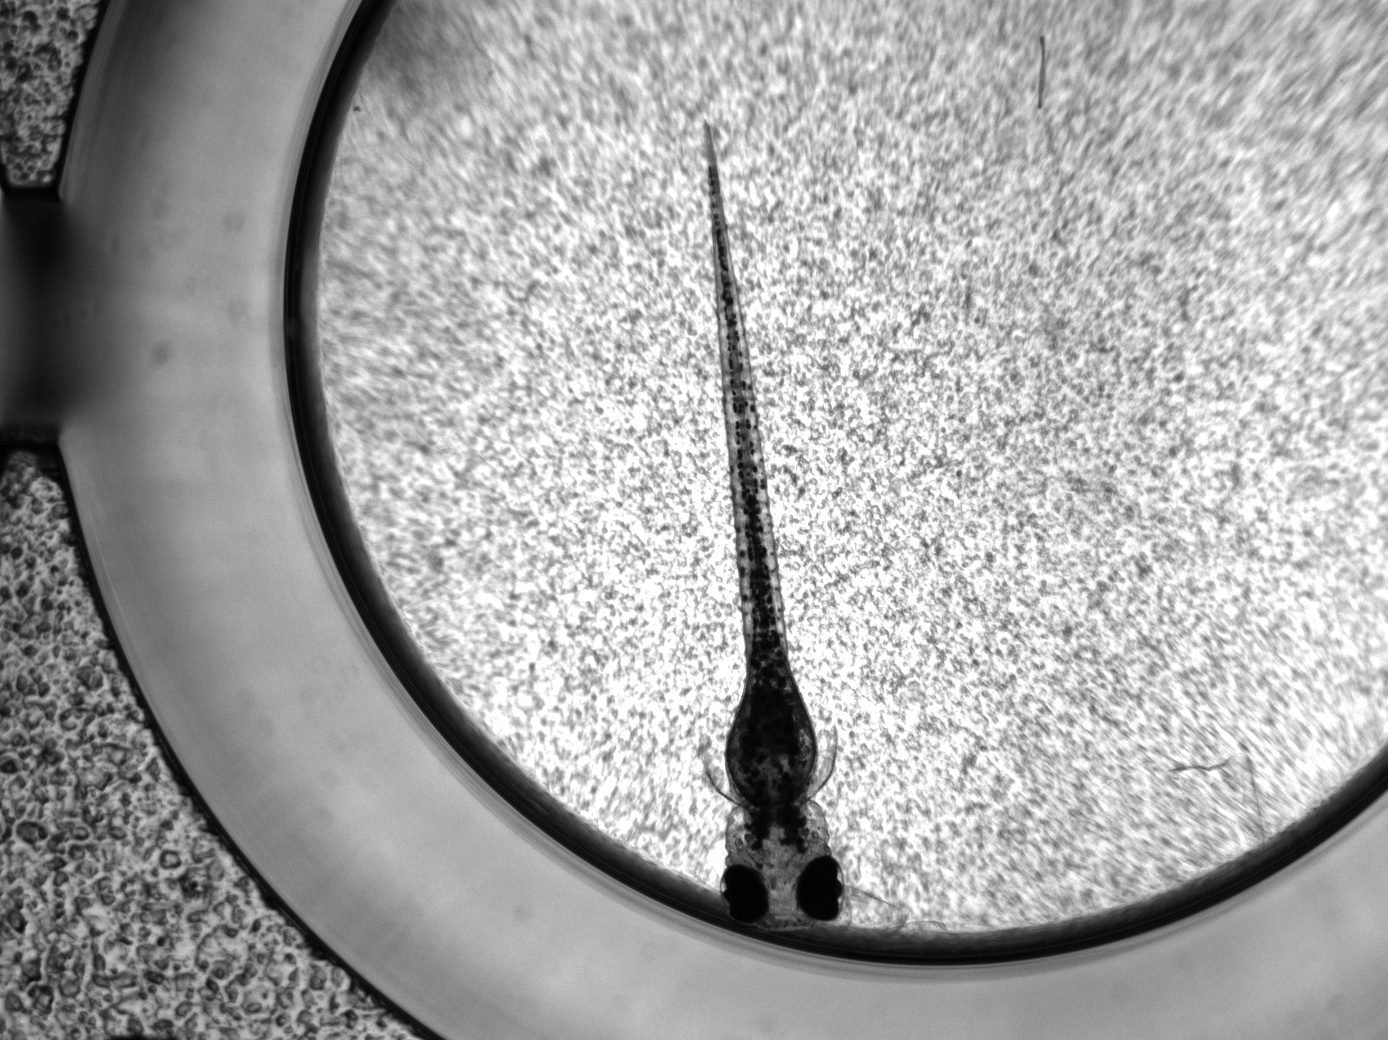embryo: (703, 122, 849, 939)
eye: (795, 855, 845, 922), (720, 865, 770, 925)
yolksac: (722, 699, 818, 806)
